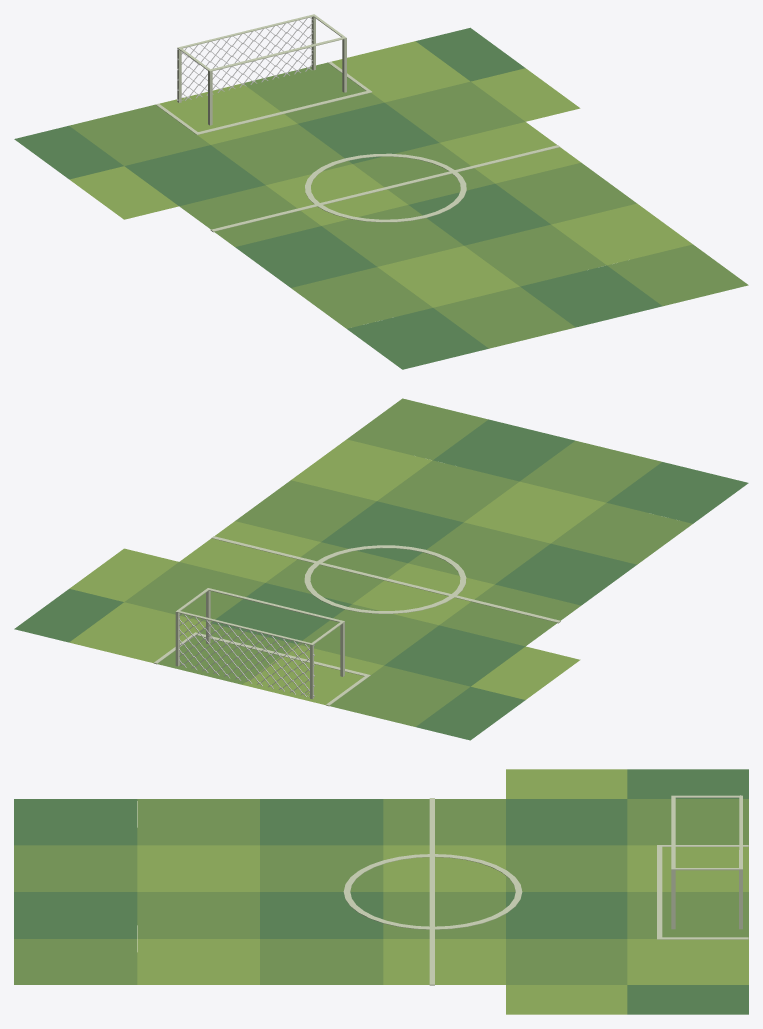
Rendered from grass.glb.
3 renders of one model, top to bottom at view 1: azimuth 30°, elevation 25°; view 2: azimuth 150°, elevation 25°; view 3: azimuth 270°, elevation 25°, orthographic. The views are drawn at different scales.
Visible parts, largest first — view 1: Plane, Circle, Cube, Circle.001; view 2: Plane, Circle, Cube, Circle.001; view 3: Plane, Circle, Circle.001.
Part boxes in pixels (x1,y1,x2,y2): Plane: (14,27,748,369); Circle: (155,61,559,232); Cube: (177,17,313,100); Circle.001: (177,14,346,125); Plane: (14,398,748,740); Circle: (154,536,560,706); Cube: (179,613,314,696); Circle.001: (175,588,344,699); Plane: (14,769,748,1014); Circle: (343,798,748,985); Circle.001: (671,795,742,929).
Bounding box in the file's own units: 55.39 × 6.62 × 70.1.
